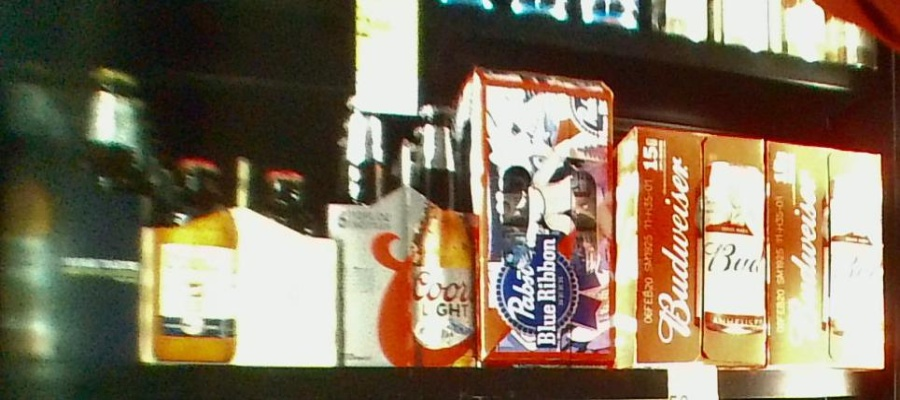bottle: (1, 63, 150, 361), (478, 69, 621, 365), (154, 154, 338, 368), (336, 92, 475, 366), (625, 123, 767, 369), (767, 137, 885, 371)
